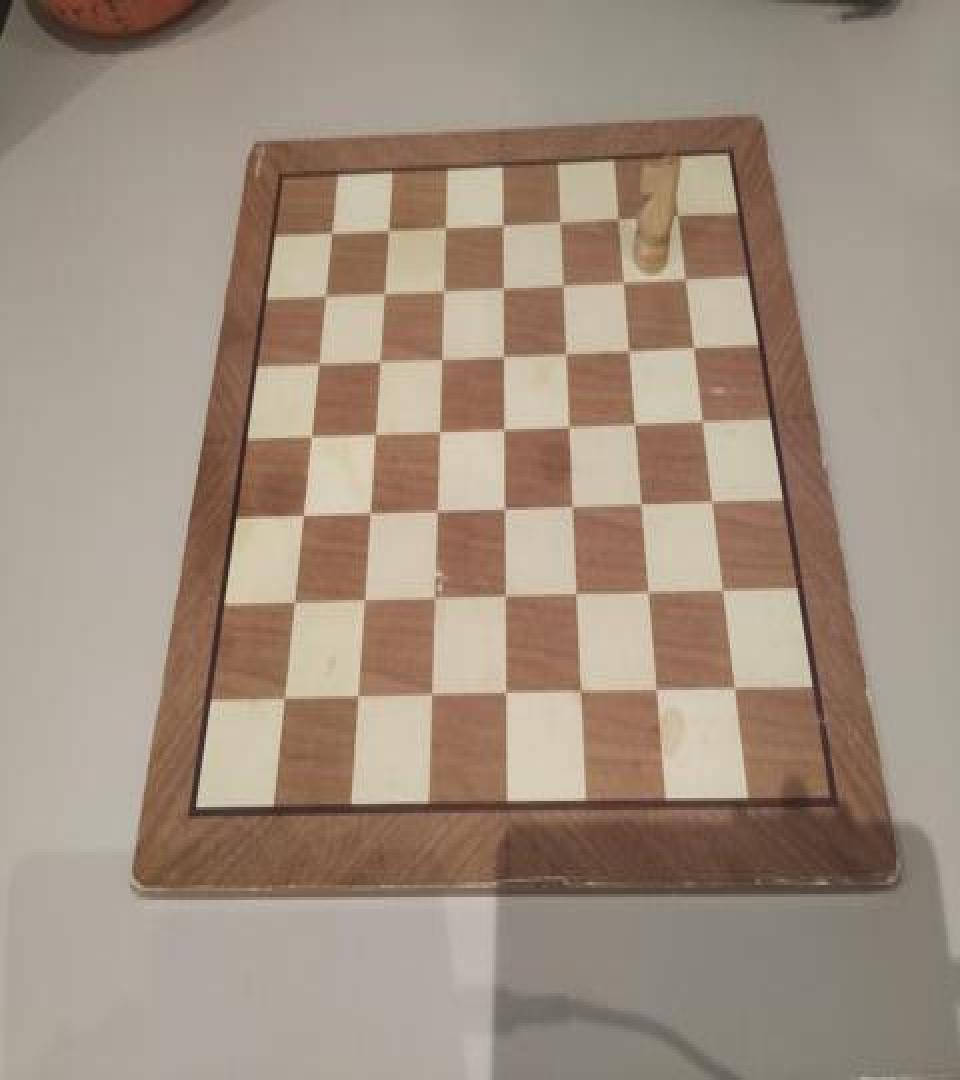xcorner: (313, 280, 333, 311), (608, 199, 628, 230), (271, 687, 291, 717), (344, 686, 364, 716), (419, 684, 439, 714), (570, 681, 590, 711), (647, 680, 667, 710), (725, 678, 745, 708), (281, 591, 301, 621), (351, 590, 371, 620), (493, 585, 513, 615), (566, 582, 586, 612), (713, 578, 733, 608), (290, 502, 310, 532), (357, 501, 377, 531), (425, 498, 445, 528), (493, 495, 513, 525), (562, 492, 582, 522), (632, 490, 652, 520), (703, 488, 723, 518), (299, 423, 319, 453), (362, 420, 382, 450), (427, 417, 447, 447), (492, 414, 512, 444), (558, 411, 578, 441), (625, 408, 645, 438), (693, 405, 713, 435), (306, 350, 326, 380), (368, 345, 388, 375), (429, 342, 449, 372), (492, 339, 512, 369), (555, 336, 575, 366), (619, 333, 639, 363), (684, 330, 704, 360), (372, 278, 392, 308), (432, 274, 452, 304), (492, 270, 512, 300), (552, 267, 572, 297), (614, 264, 634, 294), (676, 260, 696, 290), (320, 219, 340, 249), (376, 214, 396, 244), (434, 212, 454, 242), (491, 207, 511, 237), (550, 204, 570, 234), (668, 196, 688, 226), (494, 683, 514, 712), (422, 587, 442, 616), (639, 581, 659, 610)
